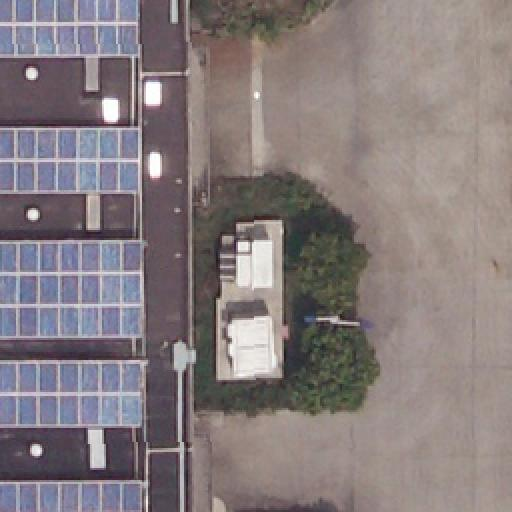solar-panel: (1, 240, 143, 336), (0, 357, 144, 427), (0, 127, 140, 193), (0, 0, 136, 56), (0, 481, 144, 511)
